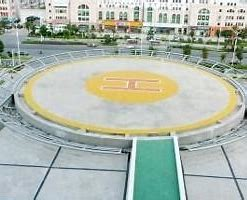H: (103, 78, 159, 91)
